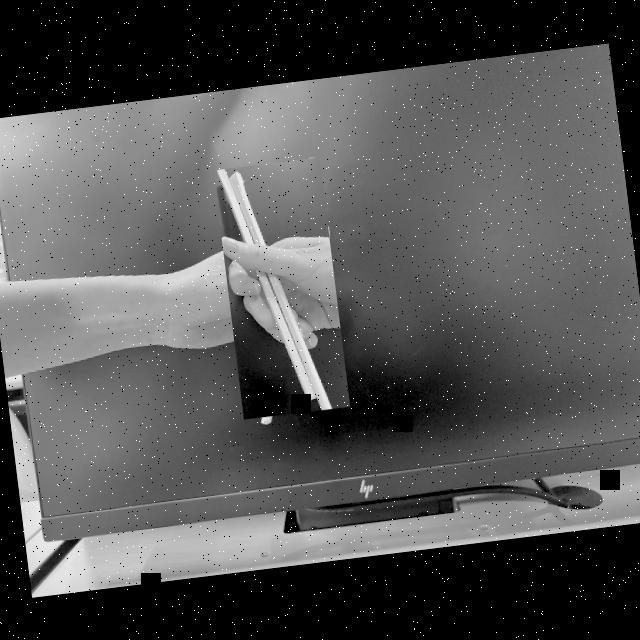stick: (213, 158, 349, 420)
